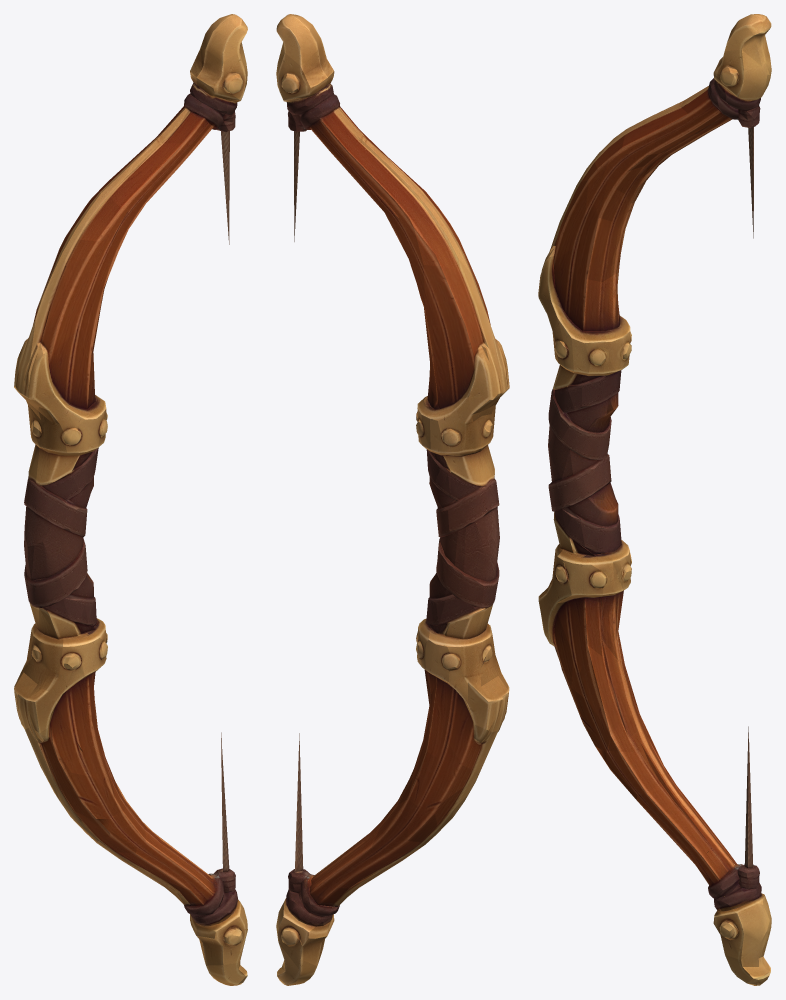
Rendered from Bow.glb.
3 renders of one model, left to right at view 1: azimuth 30°, elevation 25°; view 2: azimuth 150°, elevation 25°; view 3: azimuth 330°, elevation 25°, orthographic.
Parts seen in each view (by area): view 1: output_unwrapped; view 2: output_unwrapped; view 3: output_unwrapped.
Boxes of the visible parts, x1=… form: output_unwrapped: x1=14, y1=14, x2=247, y2=985; output_unwrapped: x1=276, y1=14, x2=509, y2=985; output_unwrapped: x1=538, y1=14, x2=771, y2=985.
Bounding box in the file's own units: 0.4632 × 1.9 × 0.1411.
1 material, 1 textured.
